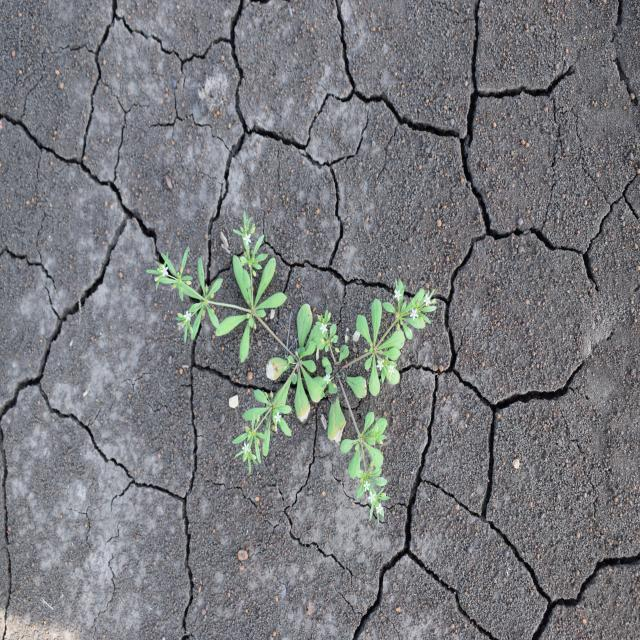Carpetweed: (145, 210, 439, 527)
